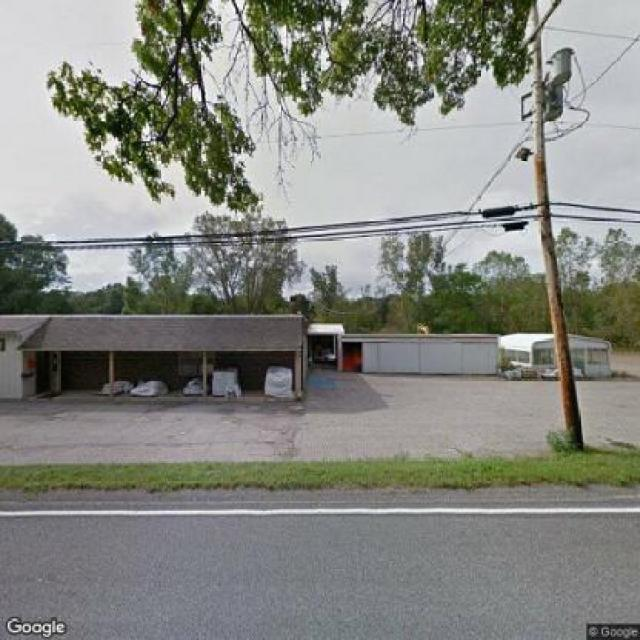pole: (513, 5, 605, 433)
